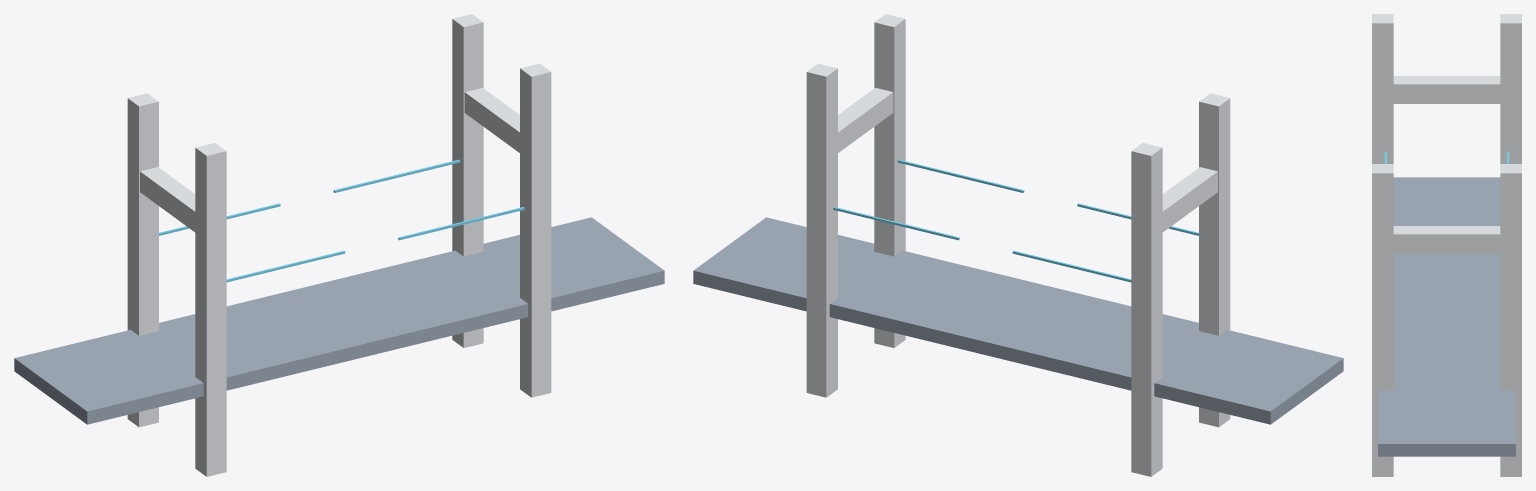
File: HR-109-ASM_public_shell.glb
3 views of the same model, side by side, from view 1: azimuth 30°, elevation 25°; view 2: azimuth 150°, elevation 25°; view 3: azimuth 270°, elevation 25° (orthographic). The views are drawn at different scales.
Parts seen in each view (by area): view 1: HR-109-DCK-02 | Aerodynamic Precast Box-Girder Deck, HR-109-PYL-01 | UHPC 175MPa Twin H-Pylons, HR-109-CBL-03 | CFRP 2800MPa Stay-Cable Array; view 2: HR-109-DCK-02 | Aerodynamic Precast Box-Girder Deck, HR-109-PYL-01 | UHPC 175MPa Twin H-Pylons, HR-109-CBL-03 | CFRP 2800MPa Stay-Cable Array; view 3: HR-109-DCK-02 | Aerodynamic Precast Box-Girder Deck, HR-109-PYL-01 | UHPC 175MPa Twin H-Pylons.
Boxes of the visible parts, x1,y1,x2,y2 form: HR-109-DCK-02 | Aerodynamic Precast Box-Girder Deck: (14,217,664,424); HR-109-PYL-01 | UHPC 175MPa Twin H-Pylons: (127,14,551,476); HR-109-CBL-03 | CFRP 2800MPa Stay-Cable Array: (159,159,524,282); HR-109-DCK-02 | Aerodynamic Precast Box-Girder Deck: (693,217,1343,424); HR-109-PYL-01 | UHPC 175MPa Twin H-Pylons: (806,14,1230,476); HR-109-CBL-03 | CFRP 2800MPa Stay-Cable Array: (833,159,1198,282); HR-109-DCK-02 | Aerodynamic Precast Box-Girder Deck: (1378,177,1515,456); HR-109-PYL-01 | UHPC 175MPa Twin H-Pylons: (1372,14,1521,476).
Size of the model in its own units: 64 by 34 by 15.2.
